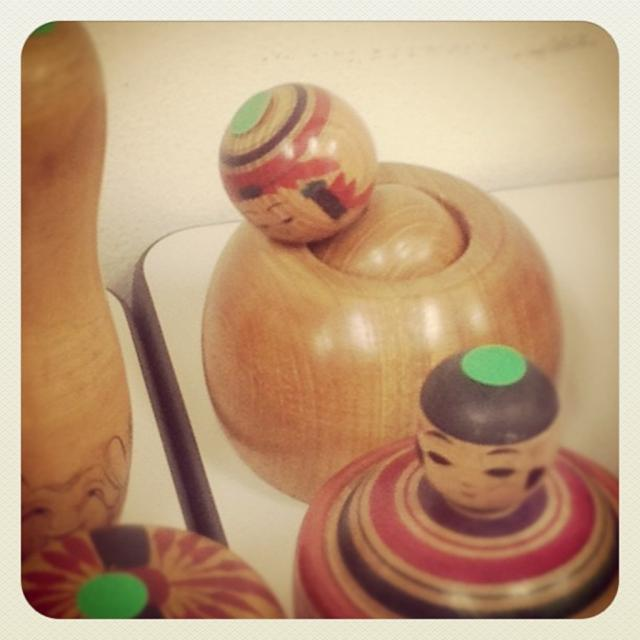Toy: (22, 21, 287, 621), (201, 83, 563, 507), (292, 344, 620, 619)
